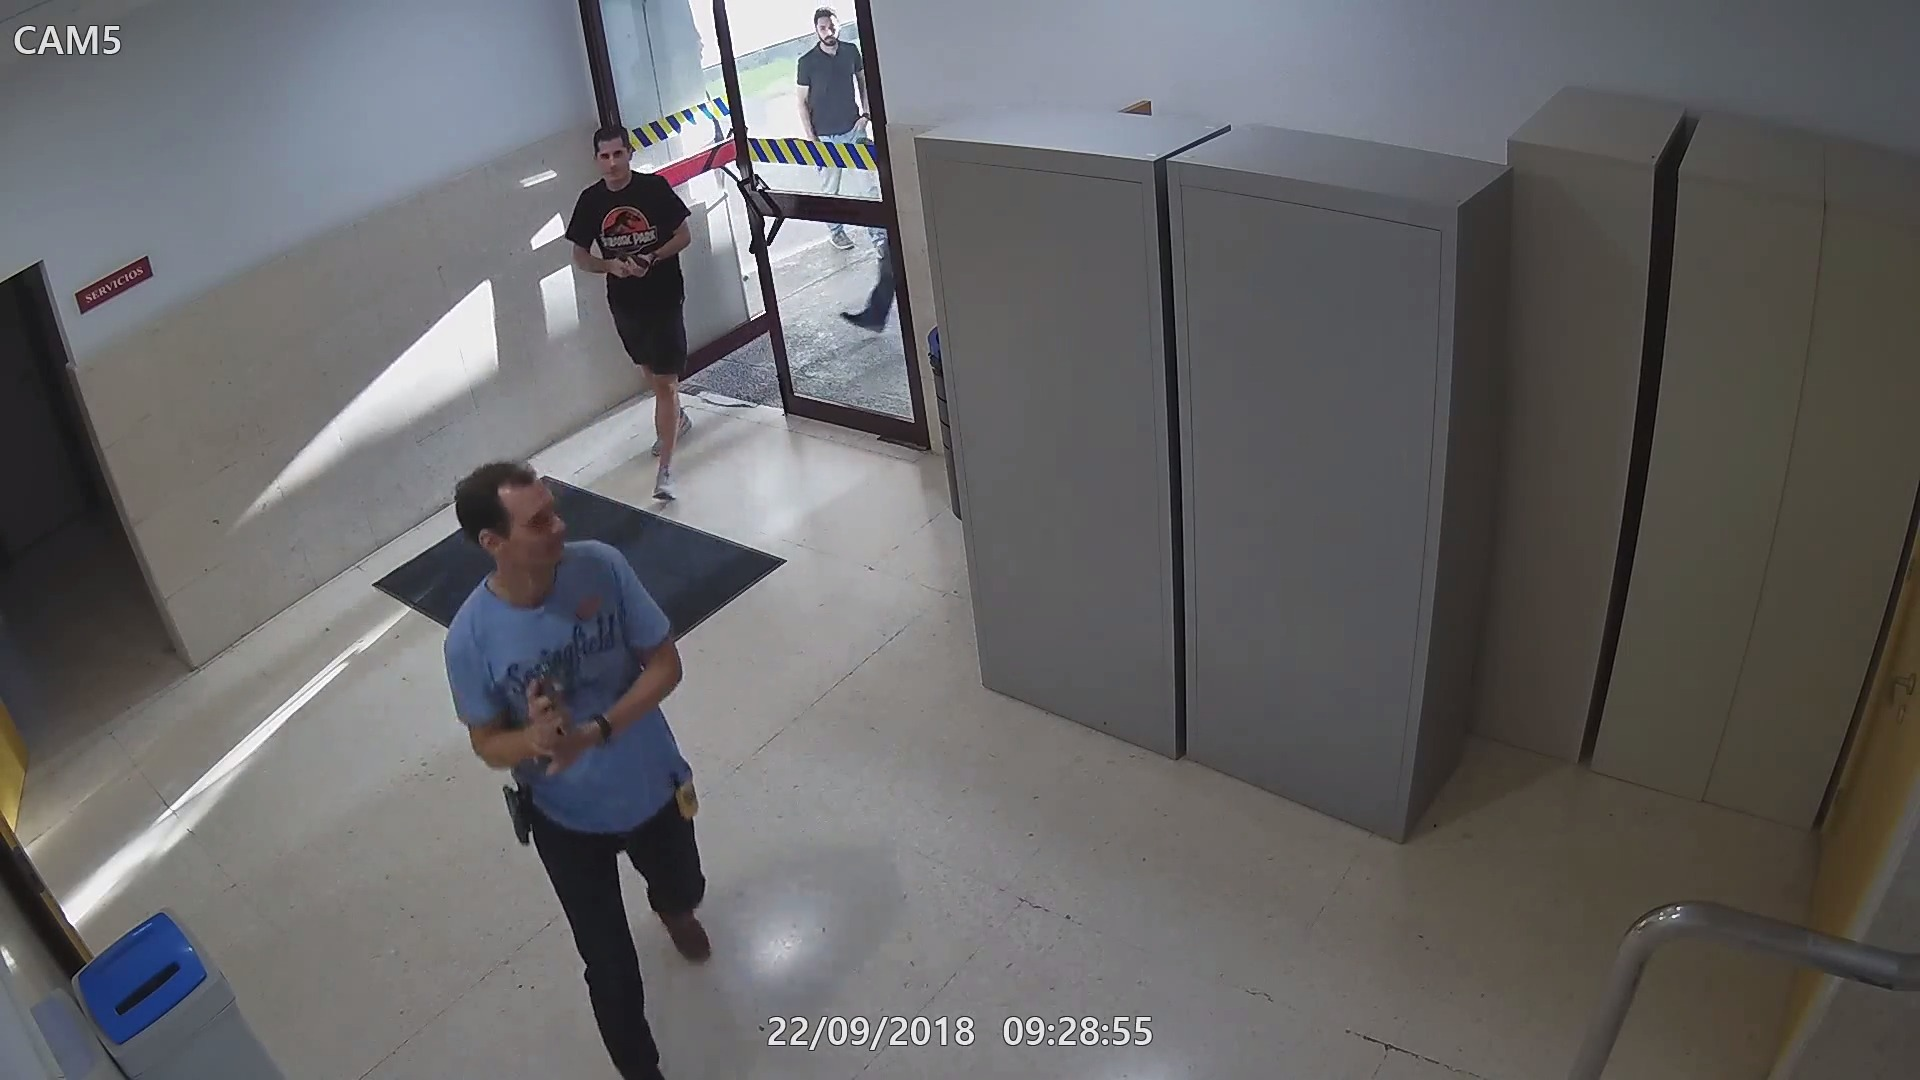Handgun: (524, 662, 575, 744), (600, 251, 658, 278)
Knife: (512, 737, 566, 771)
